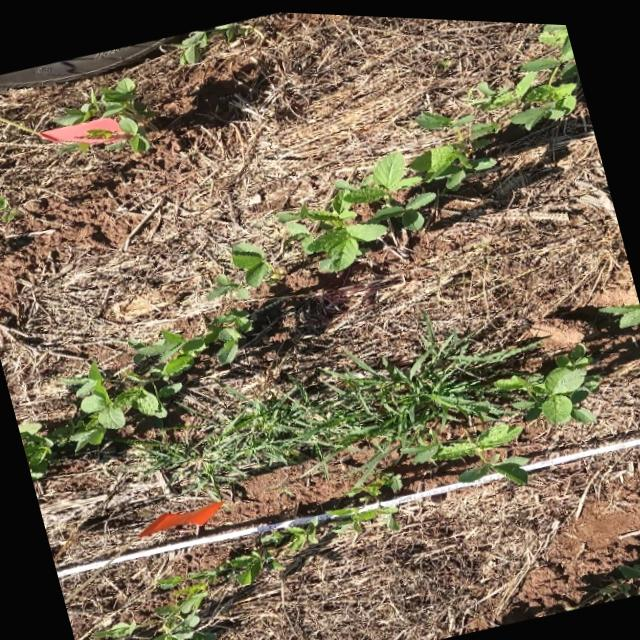grassy_weed: (152, 321, 534, 486)
soy_plant: (17, 308, 250, 480), (280, 108, 498, 267), (93, 519, 320, 640), (477, 19, 580, 124), (401, 406, 528, 479), (493, 339, 598, 419), (57, 77, 149, 137), (208, 241, 275, 296), (177, 19, 249, 60), (351, 454, 398, 494), (324, 502, 393, 529), (595, 558, 640, 596), (601, 298, 640, 322), (0, 197, 12, 222)
